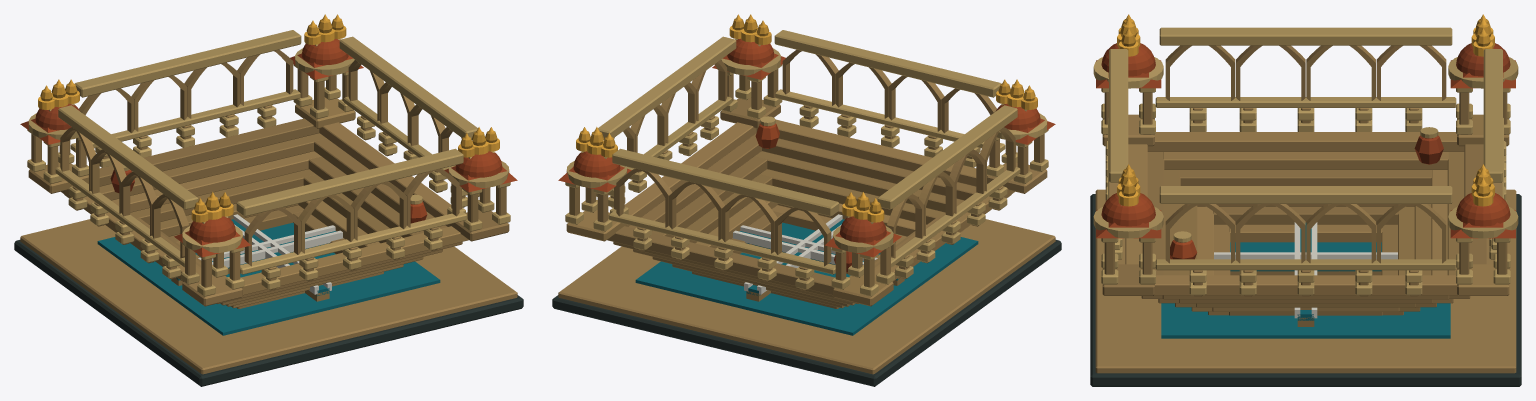
3 renders of one model, left to right at view 1: azimuth 30°, elevation 25°; view 2: azimuth 150°, elevation 25°; view 3: azimuth 270°, elevation 25°, orthographic. The views are drawn at different scales.
Visible parts, largest first — view 1: stepwell_level6_structure, stepwell_level6_metal; view 2: stepwell_level6_structure, stepwell_level6_metal; view 3: stepwell_level6_structure, stepwell_level6_metal.
Part boxes in pixels (left/top/right/bottom): stepwell_level6_structure: left=14, top=18, right=523, bottom=386; stepwell_level6_metal: left=38, top=14, right=499, bottom=222; stepwell_level6_structure: left=552, top=18, right=1061, bottom=386; stepwell_level6_metal: left=576, top=14, right=1037, bottom=222; stepwell_level6_structure: left=1090, top=19, right=1521, bottom=386; stepwell_level6_metal: left=1117, top=14, right=1494, bottom=206.
Size of the model in its own units: 5.6 by 2.93 by 5.6.
